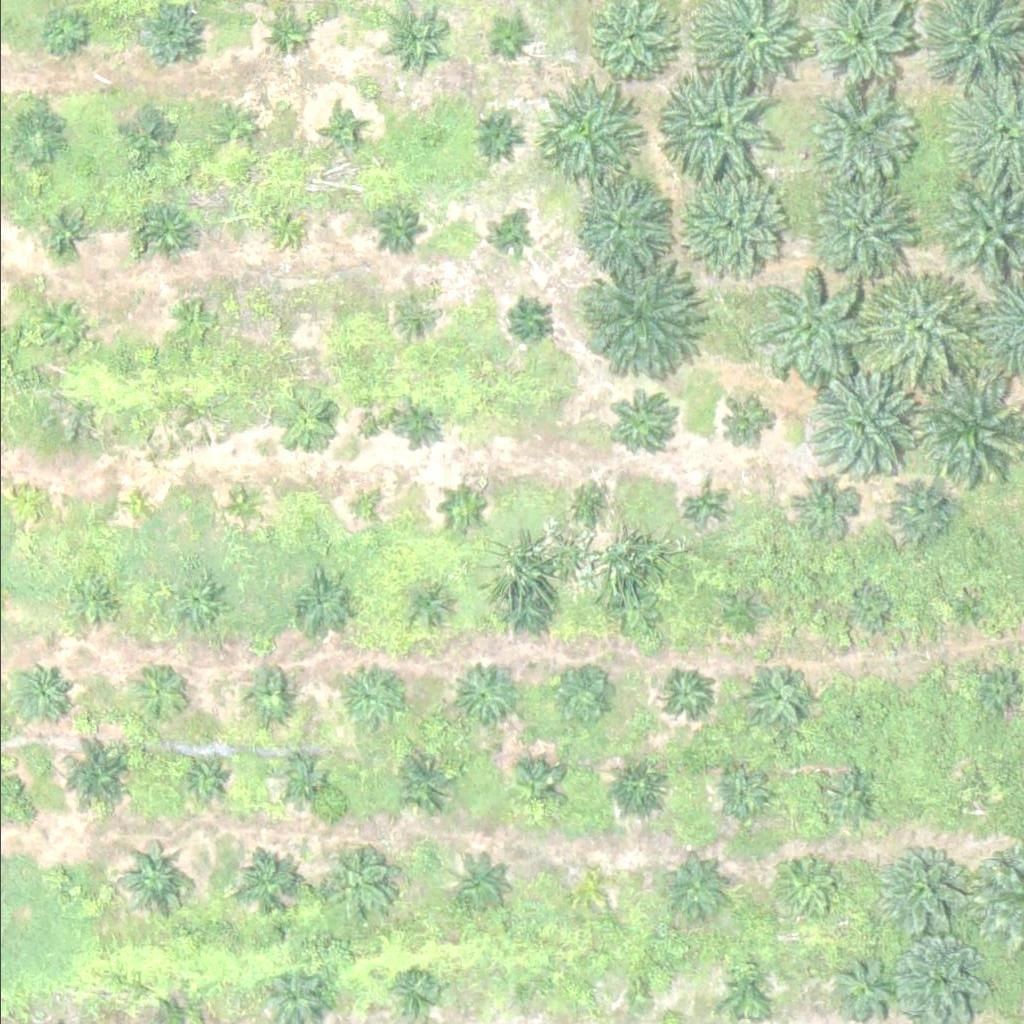Kelapa_Sawit: (892, 372, 1018, 497), (653, 66, 779, 191), (573, 262, 698, 387), (758, 274, 871, 387), (672, 163, 785, 276), (798, 371, 911, 483), (863, 275, 976, 387), (522, 72, 635, 184), (573, 173, 674, 273), (808, 179, 909, 279), (809, 78, 910, 178), (872, 851, 960, 938), (51, 732, 139, 819), (112, 840, 188, 915), (542, 654, 618, 729), (607, 386, 682, 461), (127, 658, 190, 721), (334, 663, 397, 726), (10, 661, 73, 724), (374, 4, 437, 67), (291, 576, 354, 639), (138, 6, 201, 69), (161, 572, 224, 635), (491, 577, 554, 640), (792, 473, 855, 536), (890, 483, 953, 546), (662, 857, 725, 920), (607, 756, 670, 819), (817, 766, 880, 829), (450, 662, 513, 724), (390, 752, 453, 814), (233, 852, 296, 914), (324, 854, 386, 917), (445, 860, 508, 922), (134, 201, 197, 263), (33, 295, 96, 357), (748, 663, 811, 725), (835, 959, 898, 1021), (772, 857, 835, 919), (273, 391, 336, 453), (11, 113, 62, 163), (399, 581, 450, 631), (129, 111, 180, 161), (714, 400, 765, 450), (724, 965, 775, 1015), (605, 588, 656, 638), (264, 7, 315, 57), (40, 8, 91, 58), (40, 206, 91, 256), (241, 670, 291, 720), (511, 762, 561, 812), (390, 969, 440, 1019), (472, 111, 522, 161), (374, 205, 424, 255), (73, 575, 123, 625), (659, 670, 709, 720), (718, 764, 768, 814), (395, 401, 445, 451), (170, 301, 220, 351), (210, 104, 260, 154), (477, 12, 527, 62), (179, 751, 230, 800), (442, 495, 480, 533), (514, 302, 552, 340), (851, 588, 889, 626), (949, 592, 987, 630), (725, 595, 763, 633), (341, 488, 379, 526), (222, 486, 260, 524), (115, 488, 153, 526), (15, 484, 53, 522), (268, 210, 306, 248), (323, 113, 361, 151), (488, 219, 526, 256), (956, 778, 993, 816), (283, 761, 321, 798), (975, 674, 1013, 711), (390, 296, 428, 333), (261, 308, 299, 345), (681, 486, 718, 523), (571, 490, 608, 527), (513, 983, 538, 1008), (629, 983, 654, 1008), (575, 878, 600, 903), (48, 868, 73, 893), (838, 705, 863, 730)
